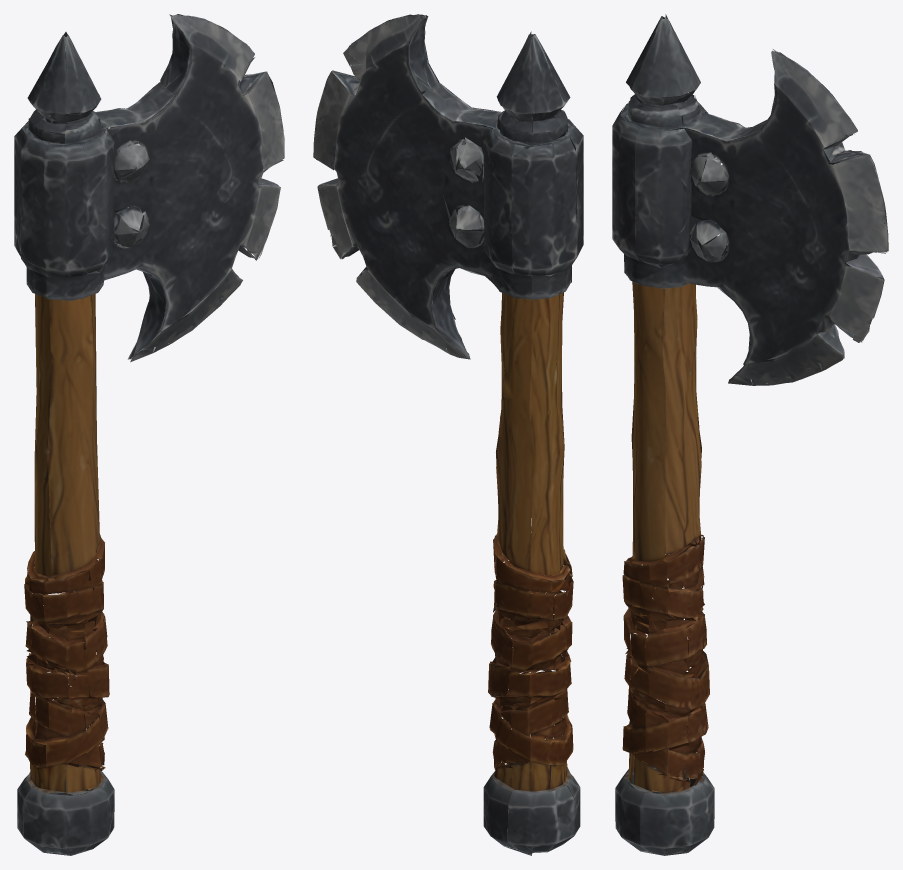
Rendered from w_axe.glb.
3 renders of one model, left to right at view 1: azimuth 30°, elevation 25°; view 2: azimuth 150°, elevation 25°; view 3: azimuth 330°, elevation 25°, orthographic. The views are drawn at different scales.
Parts seen in each view (by area): view 1: Body; view 2: Body; view 3: Body.
Boxes of the visible parts, x1,y1,x2,y2 form: Body: [14, 14, 284, 855]; Body: [313, 14, 583, 855]; Body: [612, 14, 888, 855].
Size of the model in its own units: 0.4536 by 1.35 by 0.1483.
Materials: 1 (1 with a texture image).
